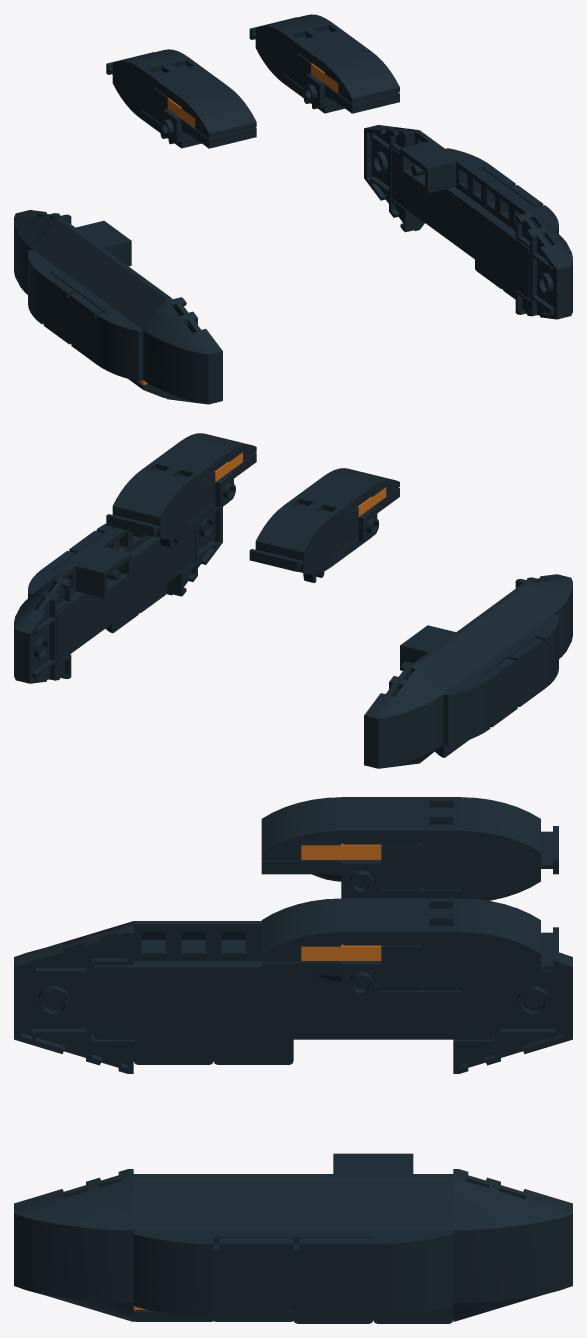
File: yf-19-alpha-one-fast-packs.dae
3 renders of one model, top to bottom at view 1: azimuth 30°, elevation 25°; view 2: azimuth 150°, elevation 25°; view 3: azimuth 270°, elevation 25°, orthographic. The views are drawn at different scales.
Size of the model in its own units: 376 by 280 by 182.
